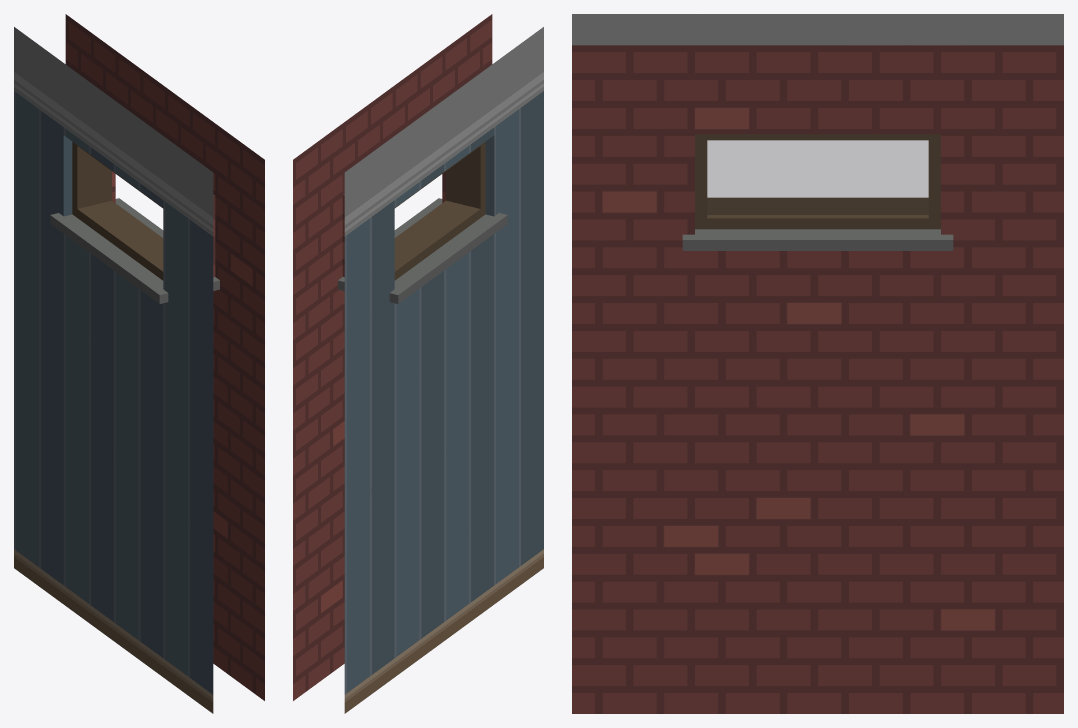
Rendered from SM_window_06_half.glb.
The picture shows the model from 3 angles, left to right: view 1: azimuth 30°, elevation 25°; view 2: azimuth 150°, elevation 25°; view 3: azimuth 270°, elevation 25°; orthographic projection. The views are drawn at different scales.
Visible parts, largest first — view 1: SM_window_06_half; view 2: SM_window_06_half; view 3: SM_window_06_half.
Boxes of the visible parts, <box> form: SM_window_06_half: <box>14,14,264,713</box>; SM_window_06_half: <box>293,14,543,713</box>; SM_window_06_half: <box>572,14,1063,713</box>.
Bounding box in the file's own units: 0.4 × 3 × 2.
4 materials, 3 textured.
